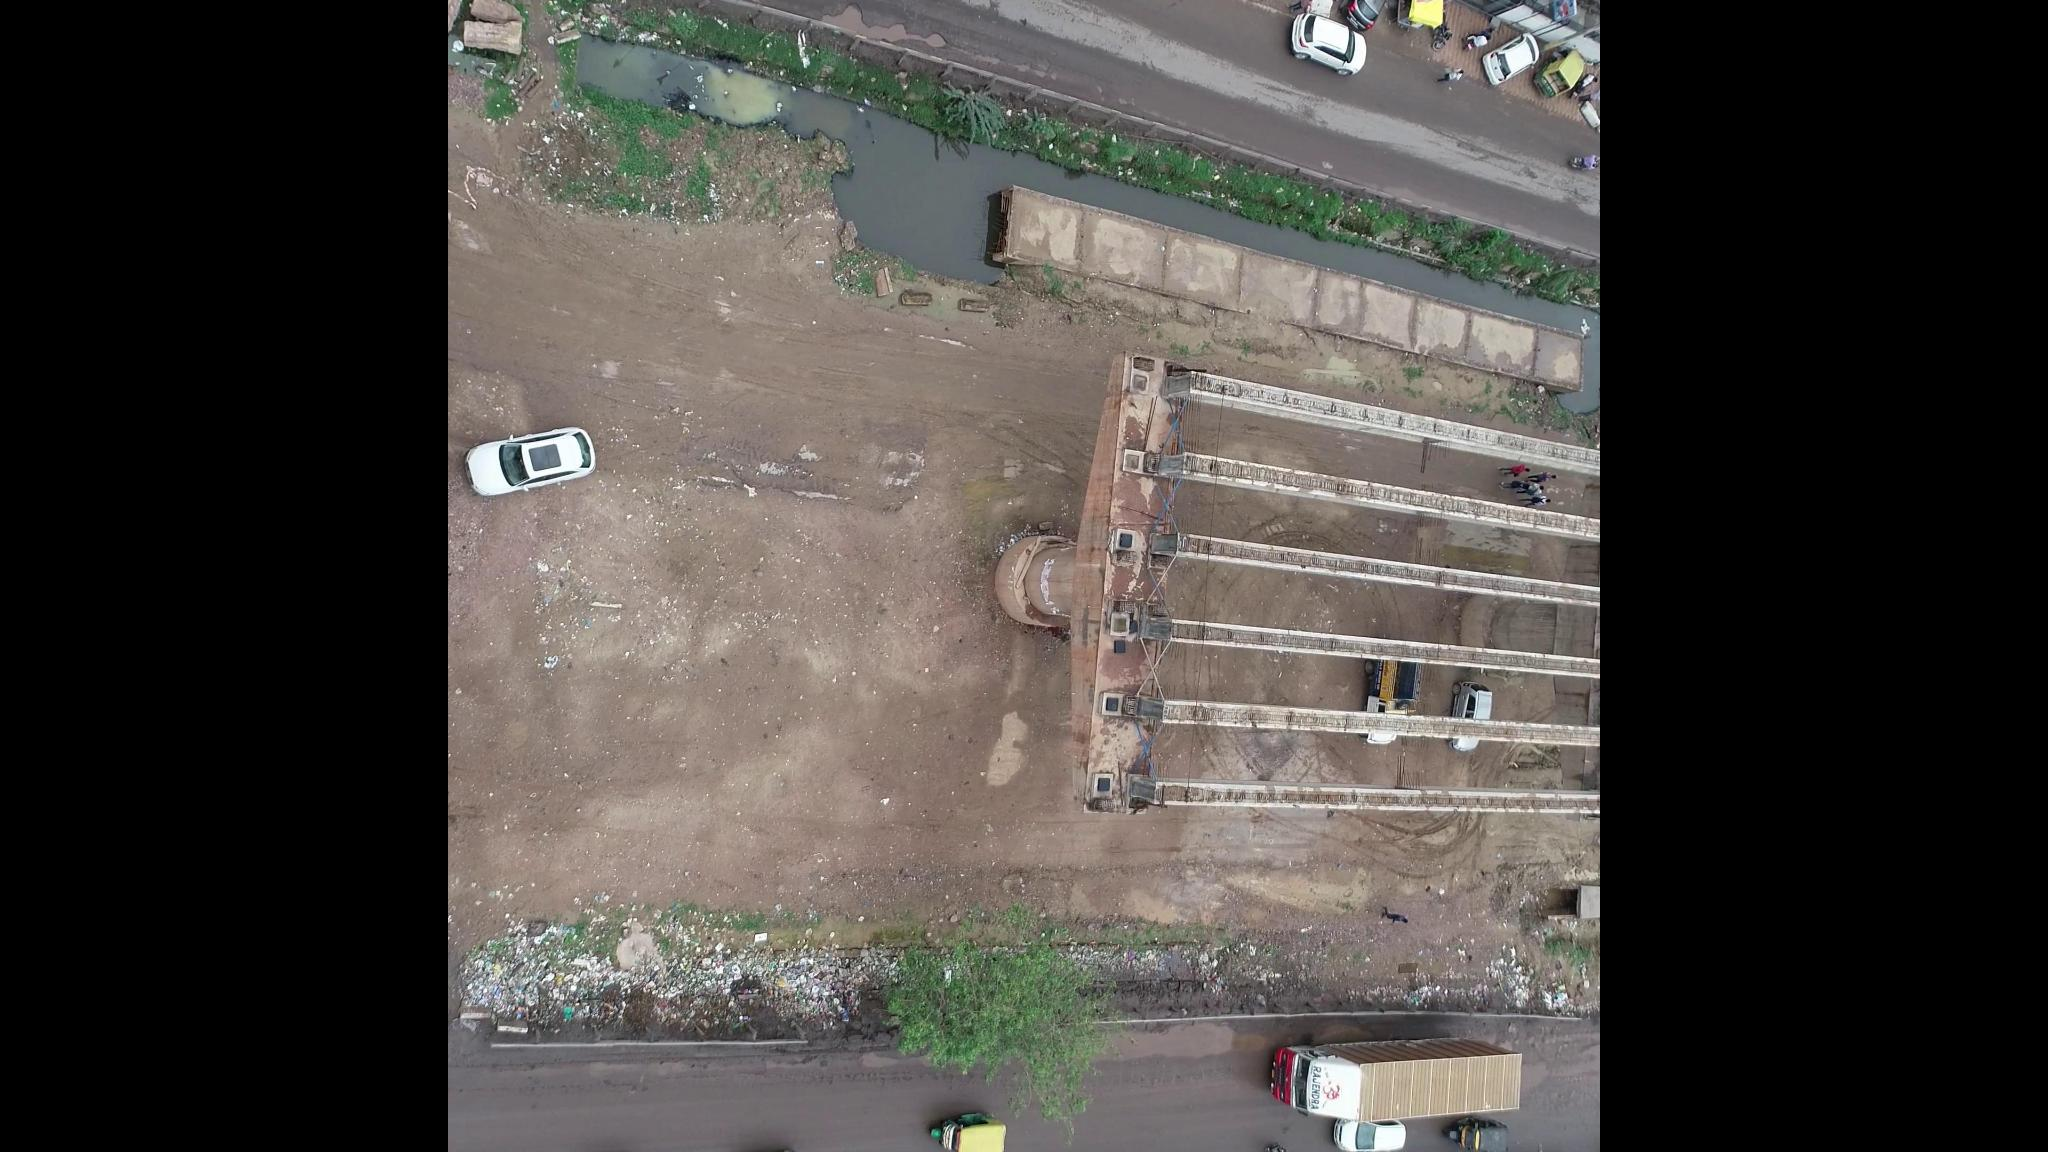Waterlogging: (1093, 1023, 1263, 1099)
